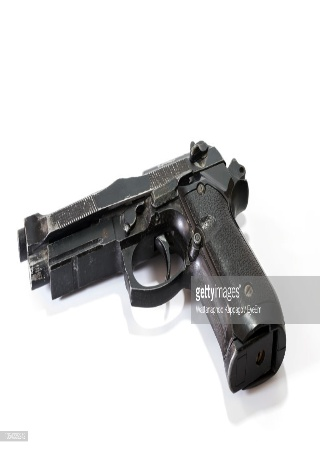handgun: (14, 135, 289, 395)
